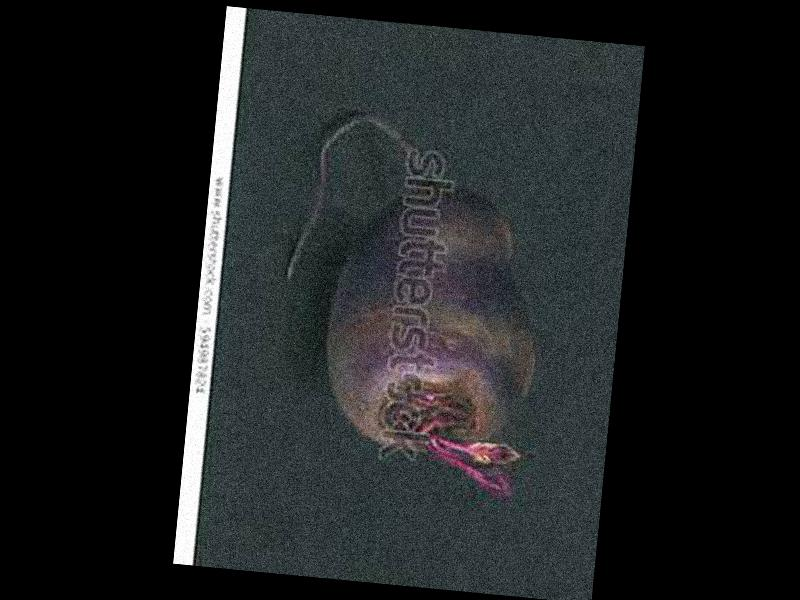Beet: (267, 109, 558, 506)
